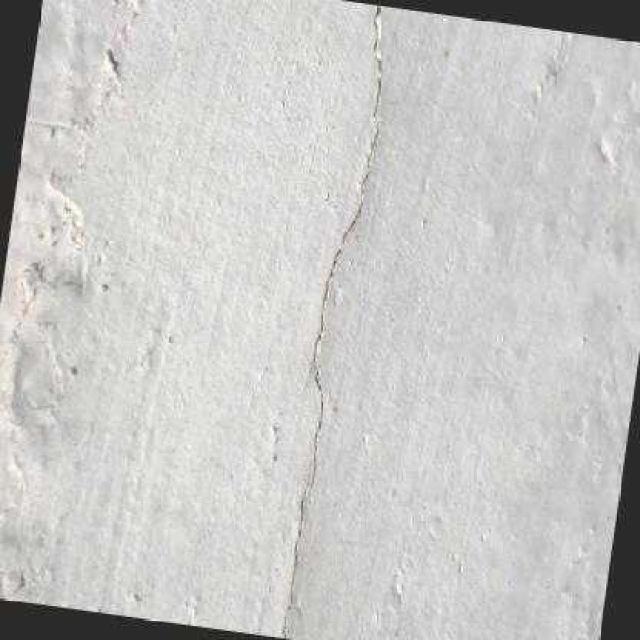D00: (310, 5, 383, 480), (281, 441, 313, 638)
